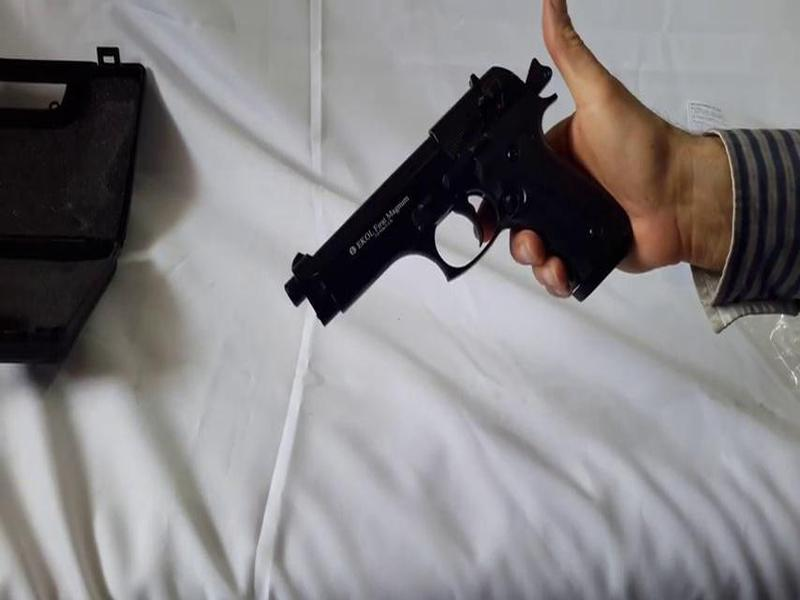Pistola: (280, 48, 637, 349)
